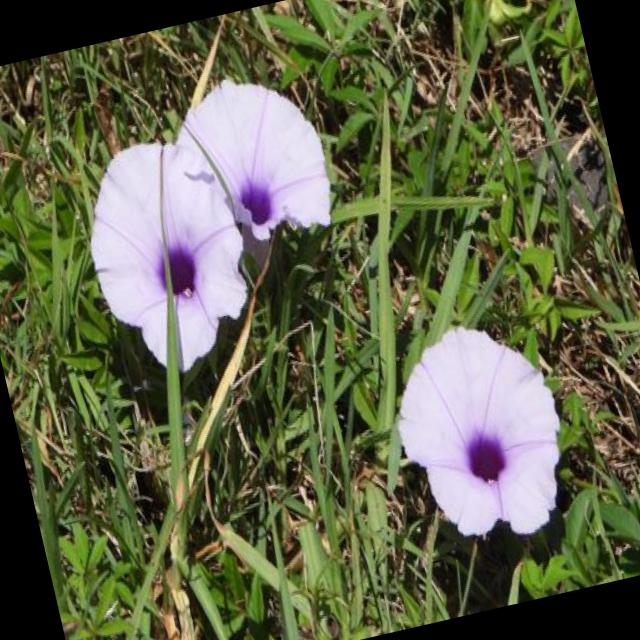ipomoea: (66, 121, 272, 391), (374, 306, 586, 562), (161, 59, 345, 268)
